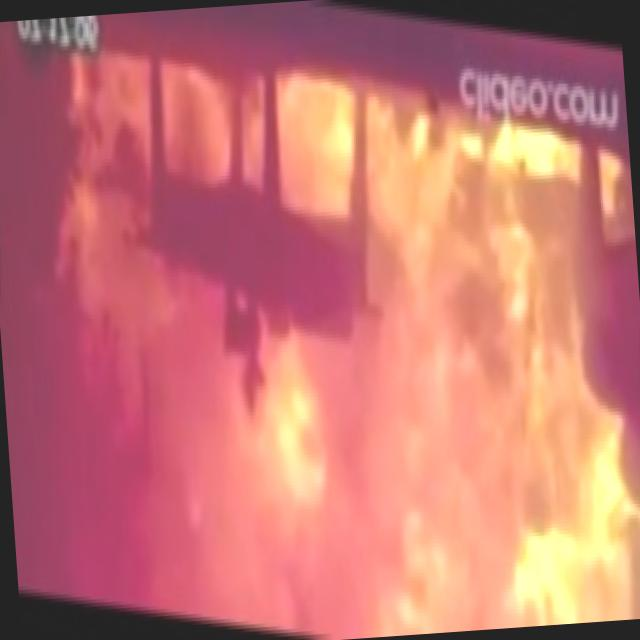fire: (3, 29, 640, 640)
